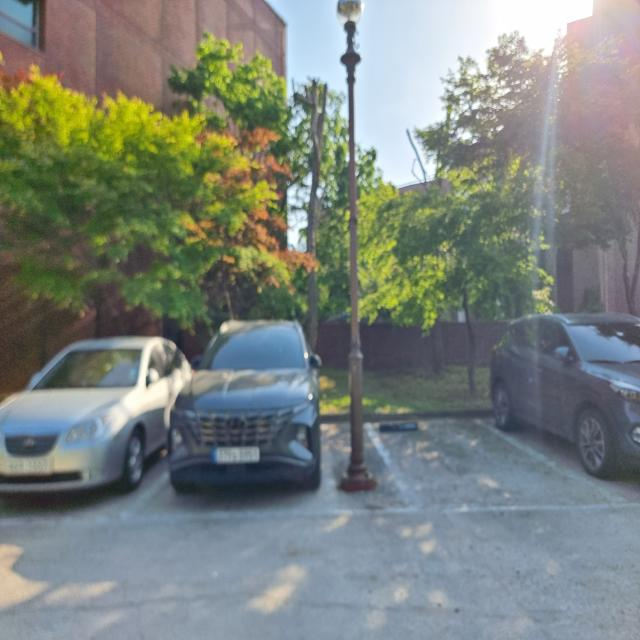empty: (363, 414, 638, 512)
occupied: (181, 322, 325, 499), (5, 343, 165, 493), (501, 316, 640, 482)
